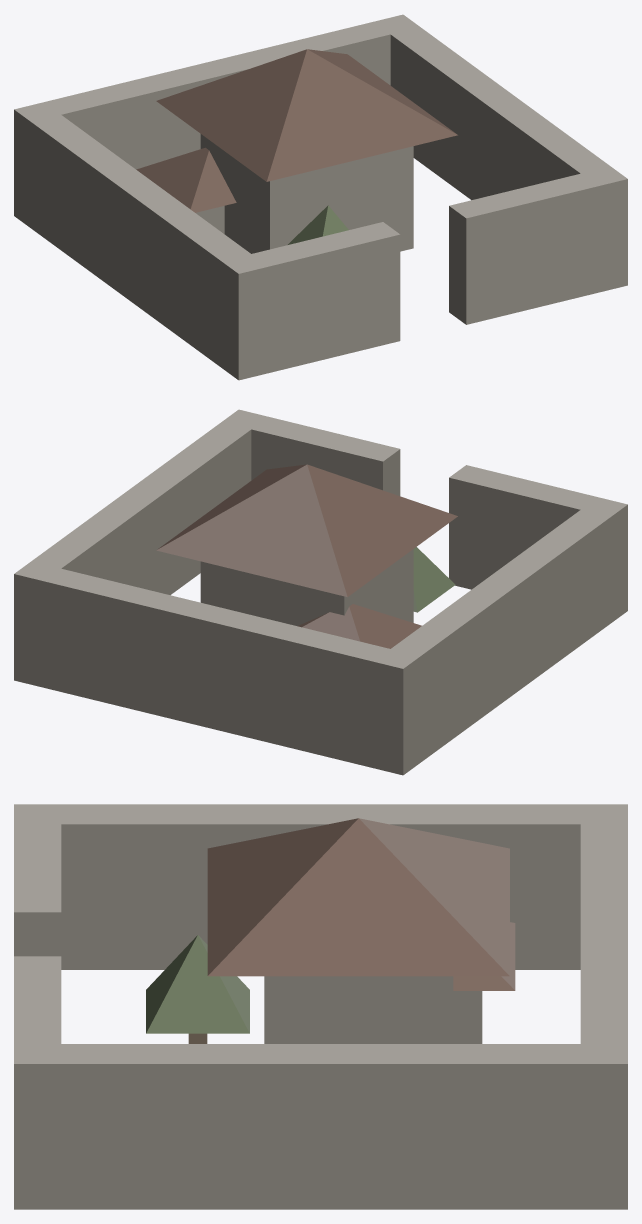
File: county-small.gltf
The picture shows the model from 3 angles, top to bottom: view 1: azimuth 30°, elevation 25°; view 2: azimuth 150°, elevation 25°; view 3: azimuth 270°, elevation 25°; orthographic projection. The views are drawn at different scales.
Visible parts, largest first — view 1: building-county-small; view 2: building-county-small; view 3: building-county-small.
Part boxes in pixels (<box>): building-county-small: <box>14,14,627,380</box>; building-county-small: <box>14,409,627,775</box>; building-county-small: <box>14,804,627,1209</box>.
Bounding box in the file's own units: 0.65 × 0.3055 × 0.65.
